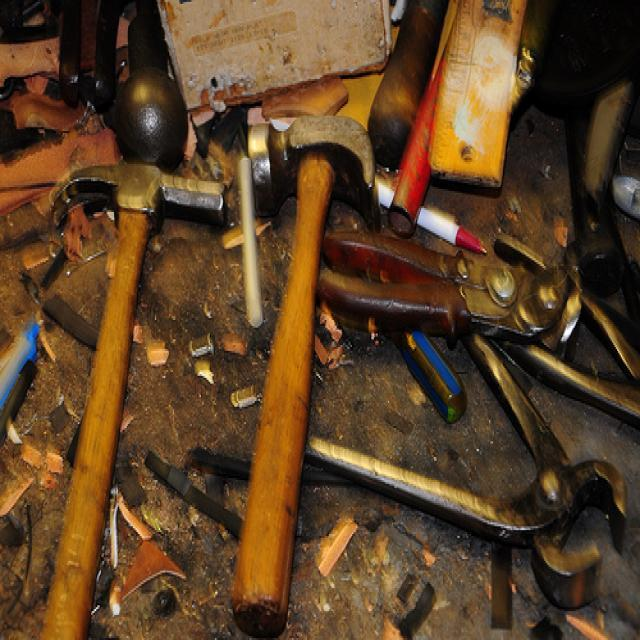hammer: (44, 157, 232, 640), (240, 100, 382, 634)
pliers: (294, 340, 638, 616)
